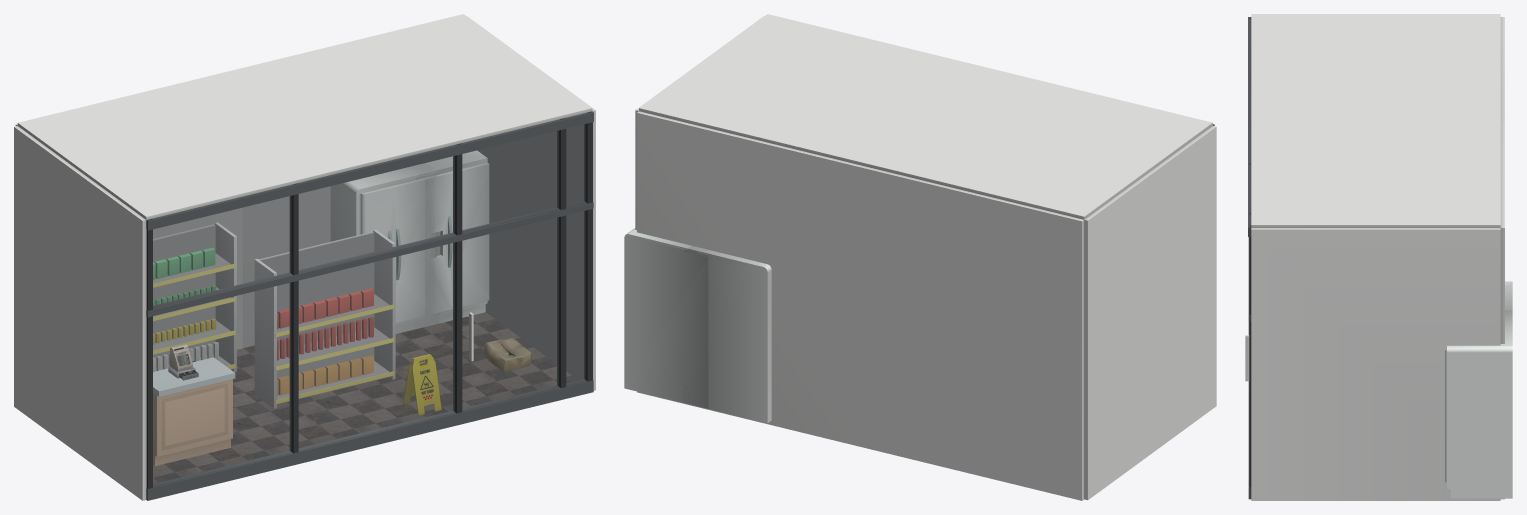
File: shop_conv.glb
The picture shows the model from 3 angles, left to right: view 1: azimuth 30°, elevation 25°; view 2: azimuth 150°, elevation 25°; view 3: azimuth 270°, elevation 25°; orthographic projection. The views are drawn at different scales.
Visible parts, largest first — view 1: body; view 2: body; view 3: body.
Part boxes in pixels (box(x1,y1,x2,y2)): body: box(14, 14, 595, 500); body: box(624, 14, 1216, 500); body: box(1245, 14, 1512, 500).
Bounding box in the file's own units: 6.17 × 3.76 × 3.21.
Materials: 10 (5 with a texture image).
